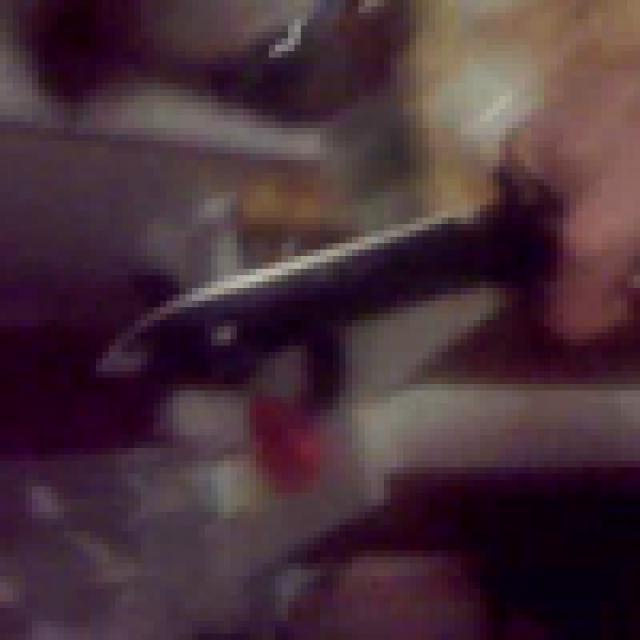Knife_Handle: (90, 70, 640, 384)
